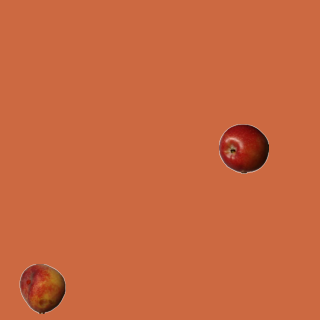Apple Braeburn: (218, 123, 268, 173)
Peach: (17, 263, 67, 313)
